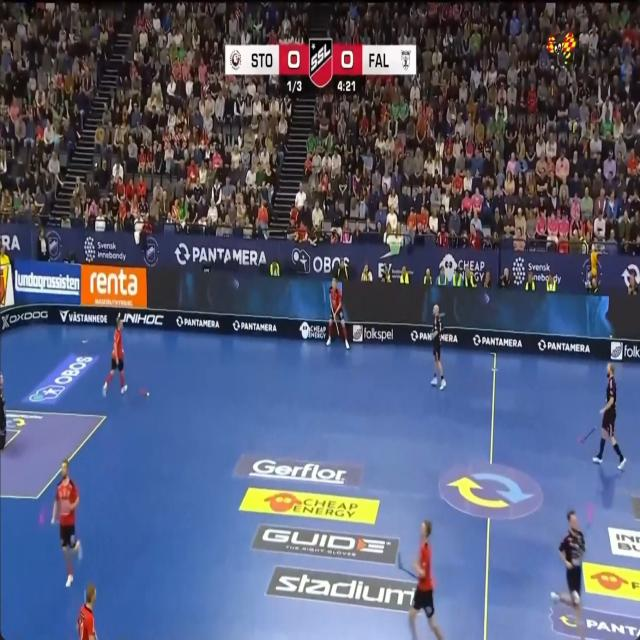player: (551, 510, 585, 639), (409, 521, 442, 639), (52, 459, 81, 585), (592, 363, 626, 469), (103, 316, 127, 395), (326, 279, 349, 349), (431, 304, 446, 389), (77, 583, 97, 639), (0, 372, 6, 450)
stick: (397, 552, 417, 579), (330, 304, 340, 337), (579, 426, 595, 442), (587, 502, 594, 528), (139, 387, 149, 395), (439, 312, 445, 317), (329, 330, 330, 336), (329, 326, 330, 330), (329, 333, 330, 336), (329, 330, 330, 331), (330, 331, 330, 333)
